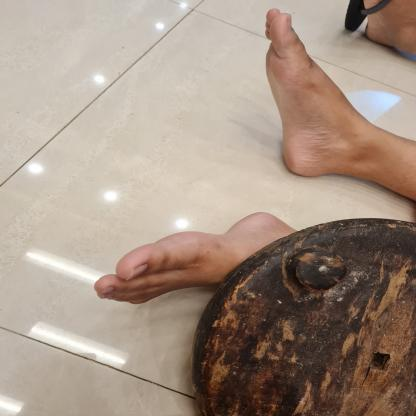leg: (255, 4, 416, 200), (87, 204, 302, 314)
